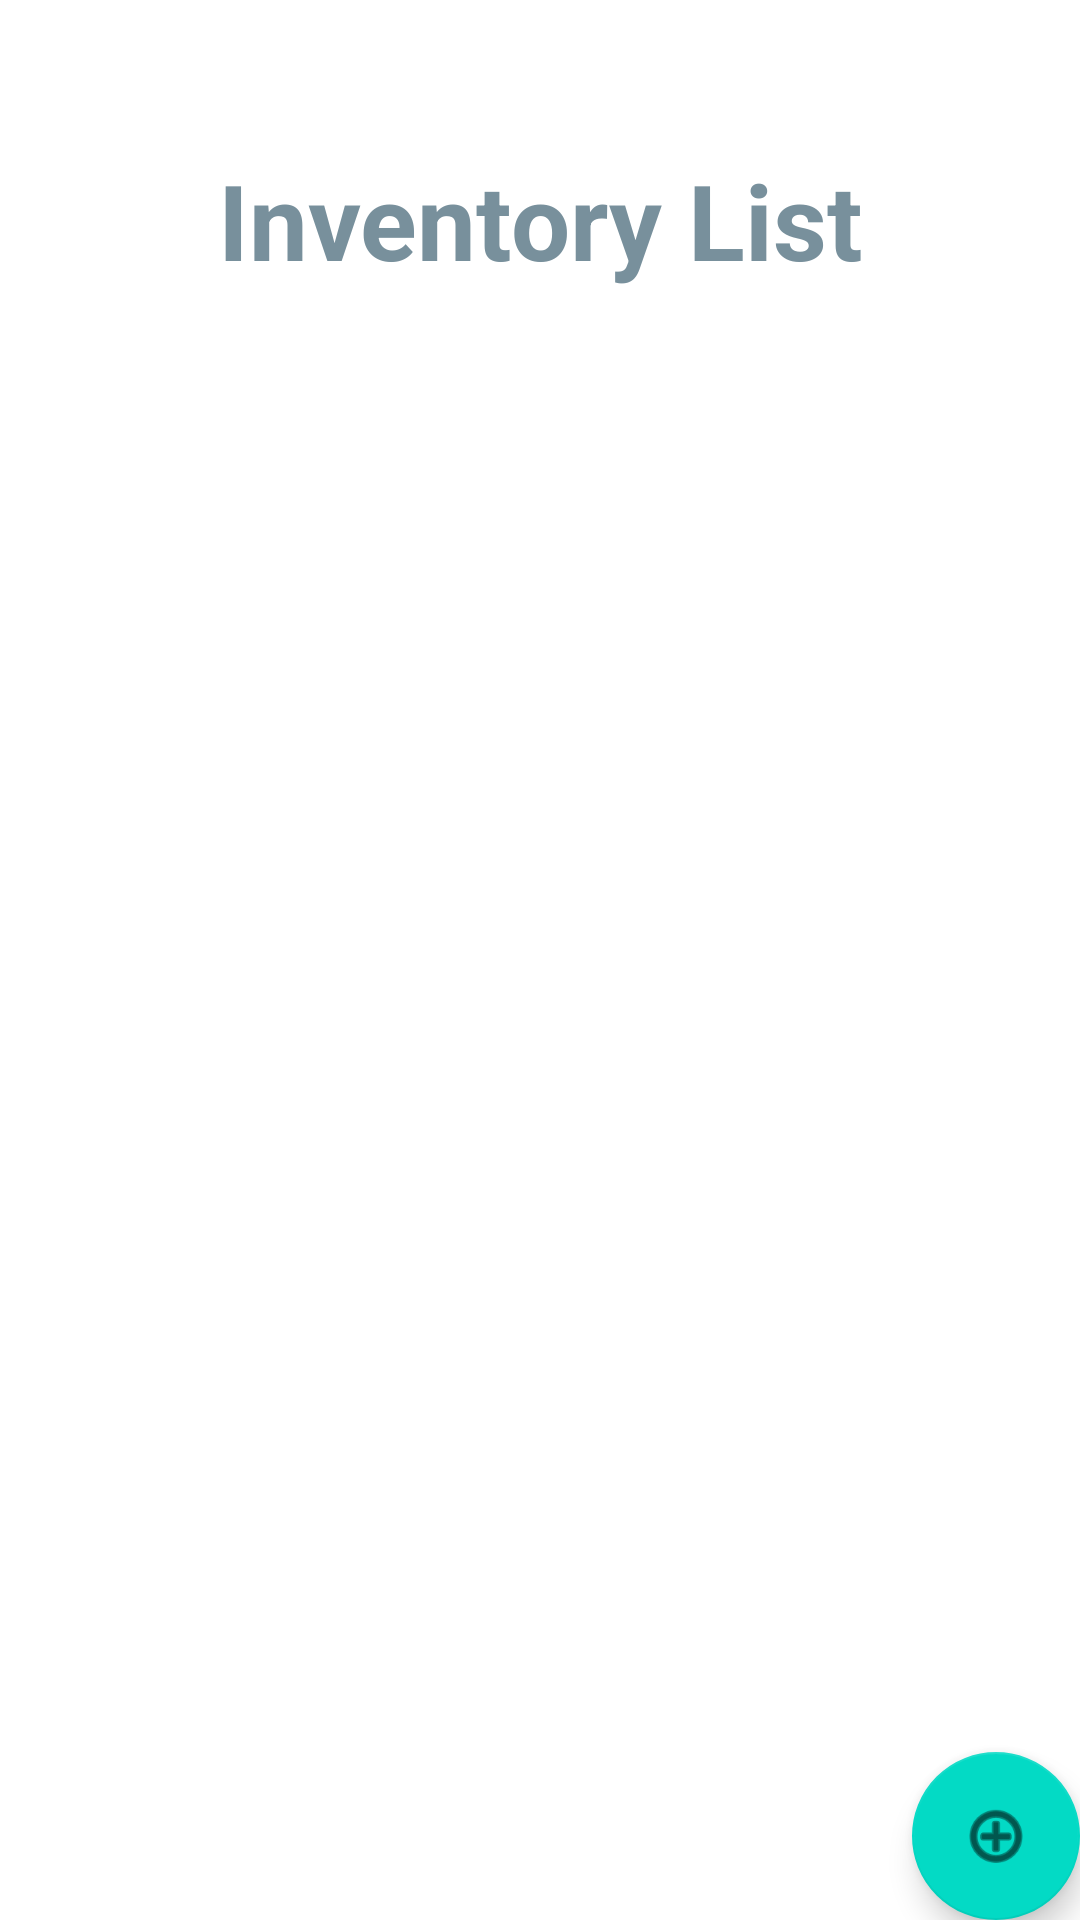

Where icons sit on this 1080 × 1920 app screen, as (x1, y1, x2, y2):
Add your Item: (912, 1752, 1080, 1920)
